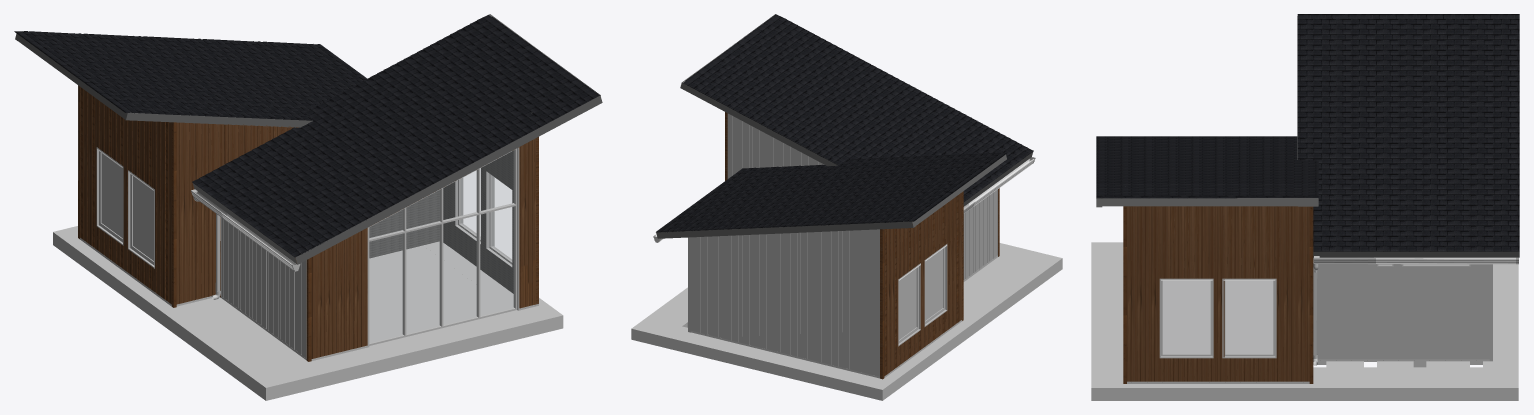
The model's file is kray-32f31b2a0ca8.glb.
3 views of the same model, side by side, from view 1: azimuth 30°, elevation 25°; view 2: azimuth 150°, elevation 25°; view 3: azimuth 270°, elevation 25° (orthographic). The views are drawn at different scales.
Visible parts, largest first — view 1: empty_550, empty_22, empty_183, empty_813, empty_159, empty_270, empty_851, empty_69, empty_89, empty_849; view 2: empty_550, empty_270, empty_22, empty_183, empty_69, empty_89, empty_849; view 3: empty_550, empty_183, empty_22, empty_270, empty_89, empty_159, empty_813, empty_69, empty_849, empty_153.
Part boxes in pixels (x1,y1,x2,y2): empty_550: (14,15,600,257); empty_22: (53,147,563,400); empty_183: (78,85,538,361); empty_813: (370,151,513,342); empty_159: (369,241,513,342); empty_270: (78,85,306,357); empty_851: (224,150,513,293); empty_69: (15,14,602,264); empty_89: (192,21,586,257); empty_849: (221,213,296,269); empty_550: (656,14,1033,232); empty_270: (690,113,997,376); empty_22: (631,157,1062,400); empty_183: (725,112,999,379); empty_69: (656,14,1032,238); empty_89: (693,19,1033,201); empty_849: (655,159,1034,240); empty_550: (1096,14,1519,251); empty_183: (1123,206,1313,383); empty_22: (1091,242,1518,400); empty_270: (1316,264,1489,359); empty_89: (1298,23,1519,251); empty_159: (1162,280,1273,352); empty_813: (1163,281,1272,353); empty_69: (1096,16,1519,257); empty_849: (1374,257,1515,264); empty_153: (1313,257,1492,361).
Size of the model in its own units: 9.24 by 5.2 by 9.06.
Materials: 24 (11 with a texture image).
